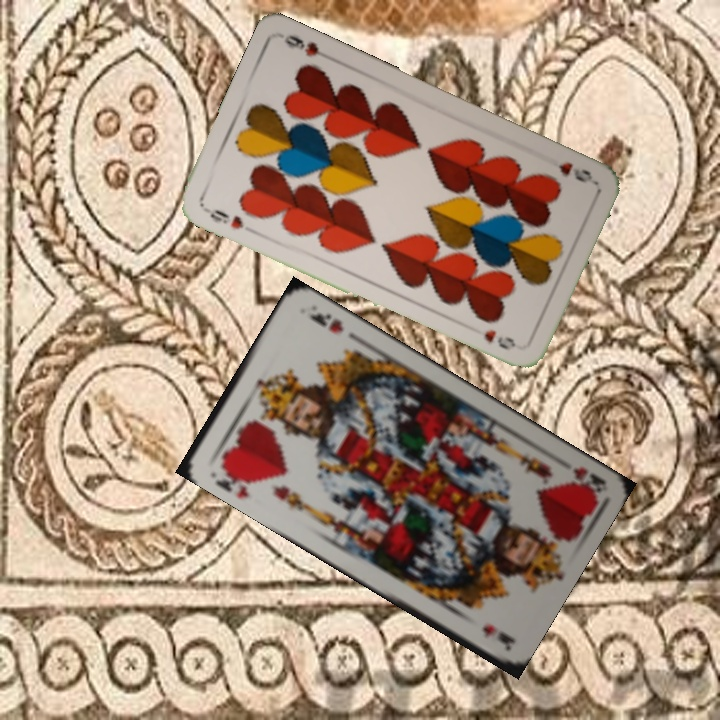H9: (199, 205, 246, 232), (554, 158, 595, 185)
HK: (211, 459, 258, 501), (567, 463, 607, 498)
